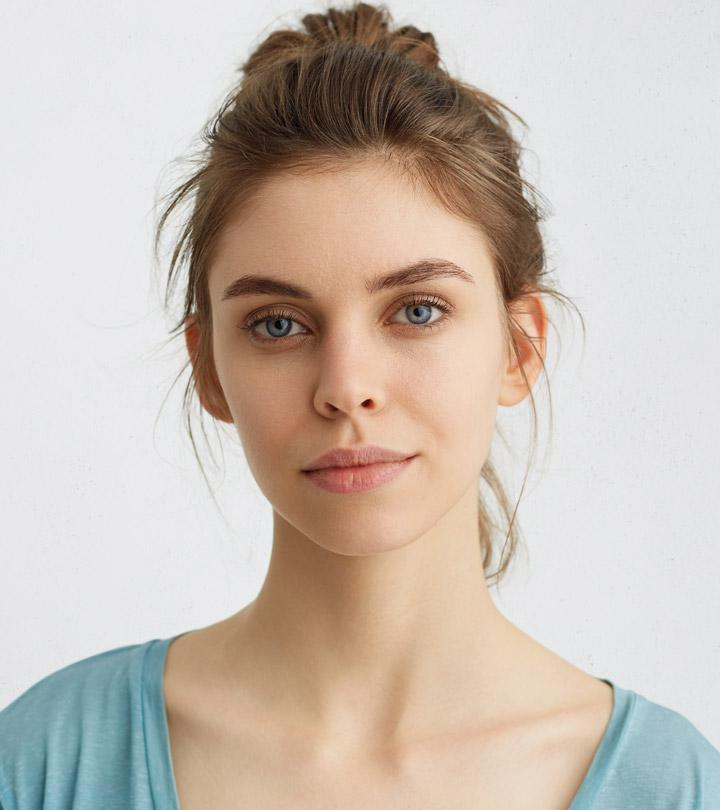Sober: (234, 197, 492, 526)
